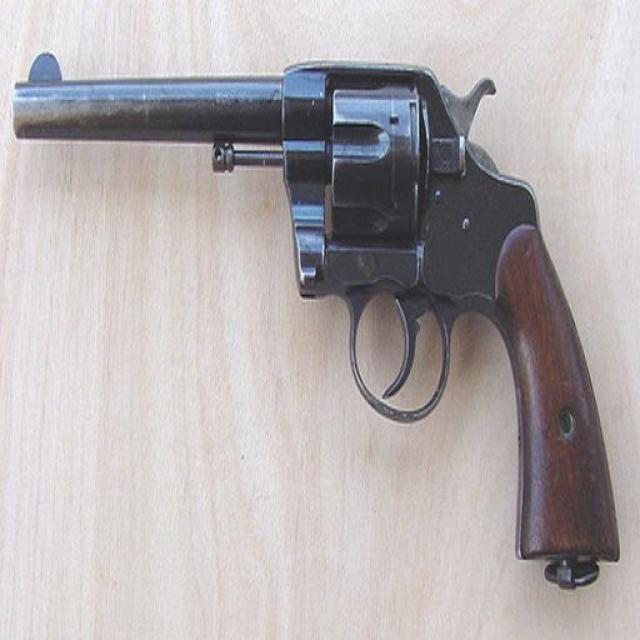pistol: (16, 45, 618, 564)
